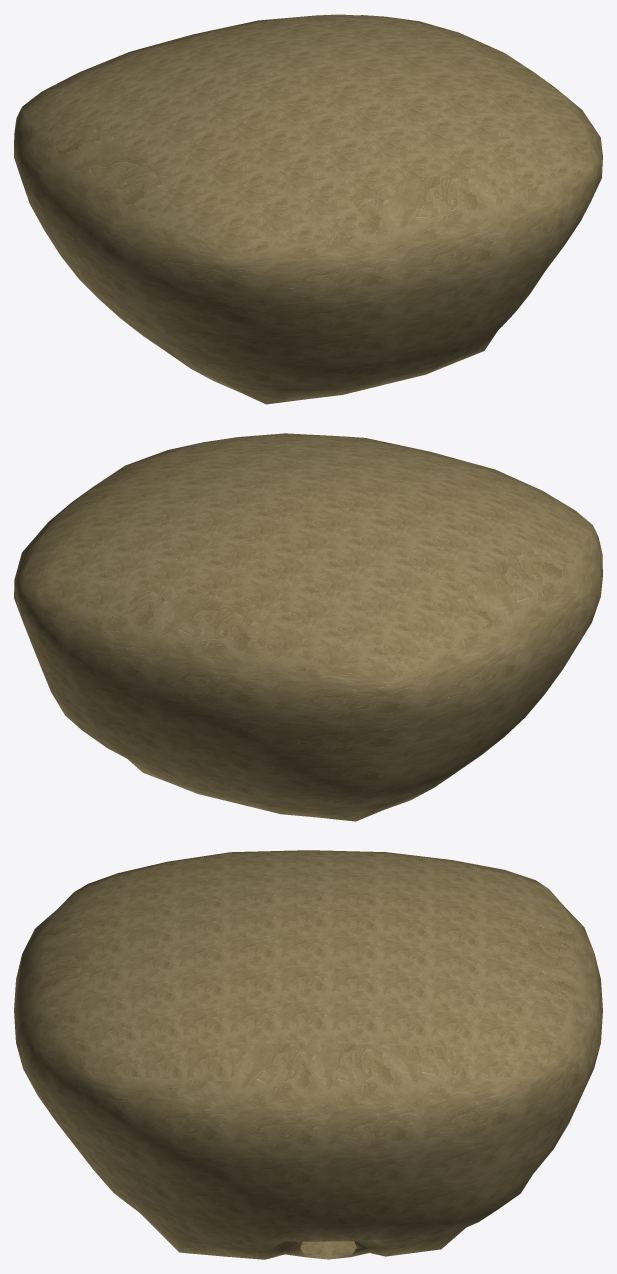
File: MIRKWOOD_SB_ARENA.fbx
3 renders of one model, top to bottom at view 1: azimuth 30°, elevation 25°; view 2: azimuth 150°, elevation 25°; view 3: azimuth 270°, elevation 25°, orthographic. The views are drawn at different scales.
Visible parts, largest first — view 1: MIRKWOOD_SB_ARENA; view 2: MIRKWOOD_SB_ARENA; view 3: MIRKWOOD_SB_ARENA.
Boxes of the visible parts, box(x1,y1,x2,y2) form: MIRKWOOD_SB_ARENA: box(14, 14, 602, 404); MIRKWOOD_SB_ARENA: box(14, 433, 602, 821); MIRKWOOD_SB_ARENA: box(14, 850, 602, 1259).
Bounding box in the file's own units: 548446 × 281059 × 530681.
Materials: 2 (2 with a texture image).
